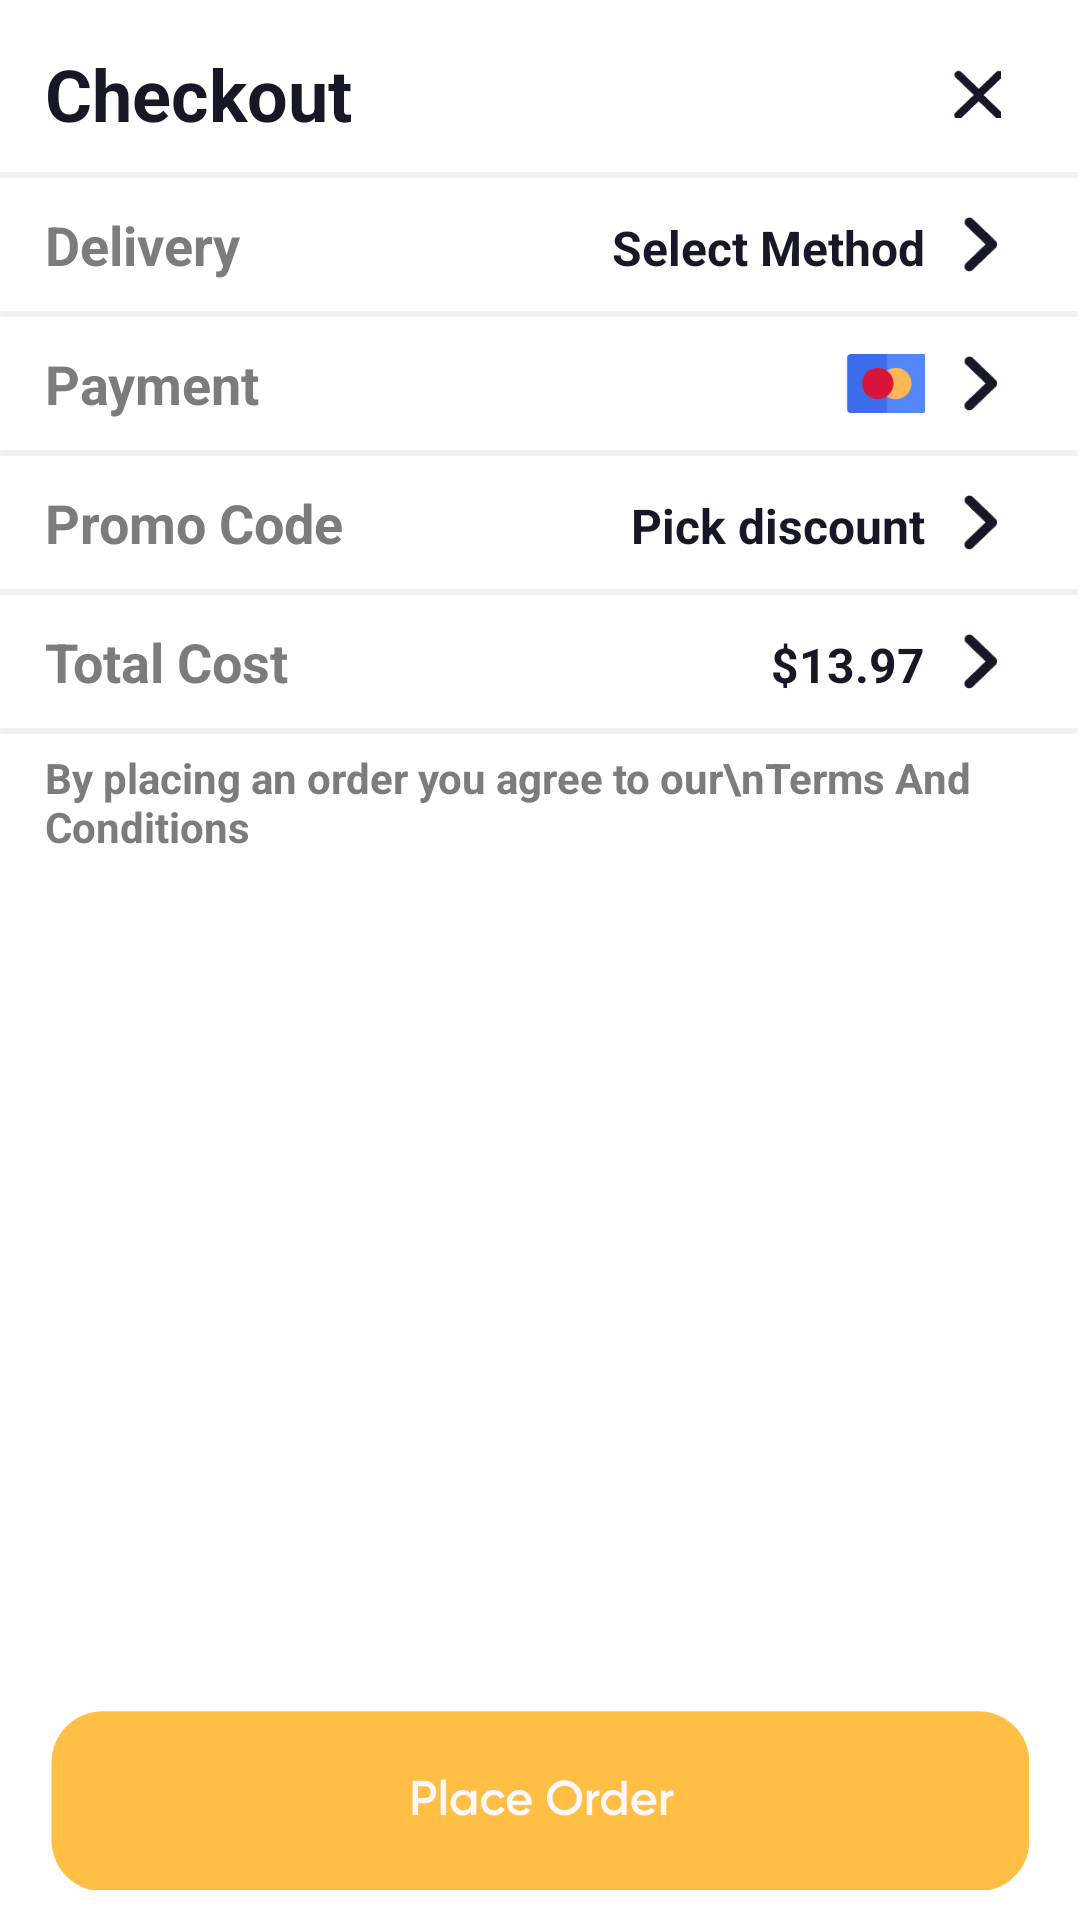

Named icons in this screenshot (1080×1920) and their bounding boxes, {"x1": x1, "y1": y1, "x2": x2, "y2": y2}:
close: {"x1": 954, "y1": 70, "x2": 1001, "y2": 118}
